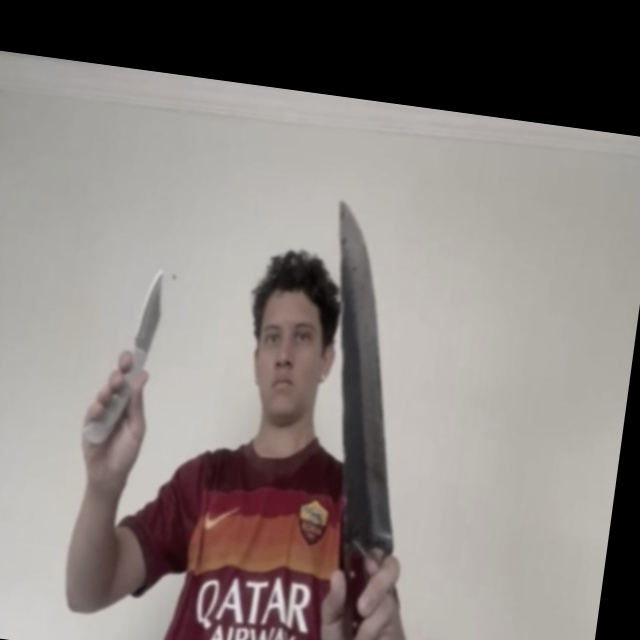Sharp-Object: (294, 199, 440, 558)
